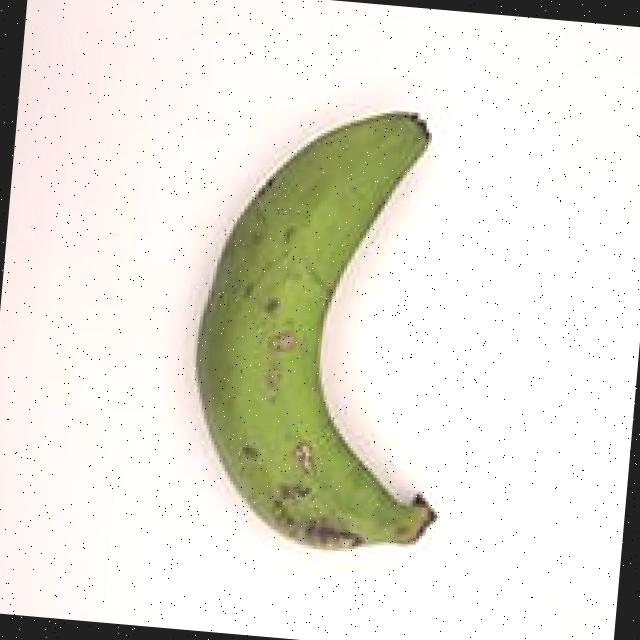Raw: (132, 68, 533, 585)
